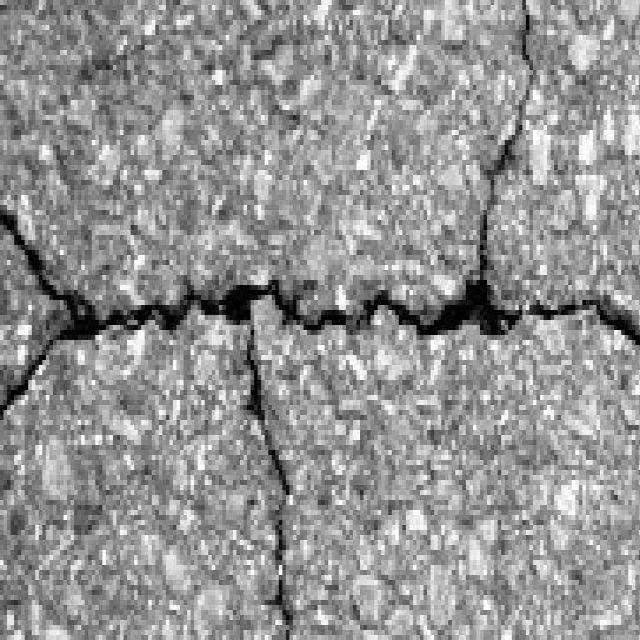SurfaceCrack: (0, 138, 639, 638)
